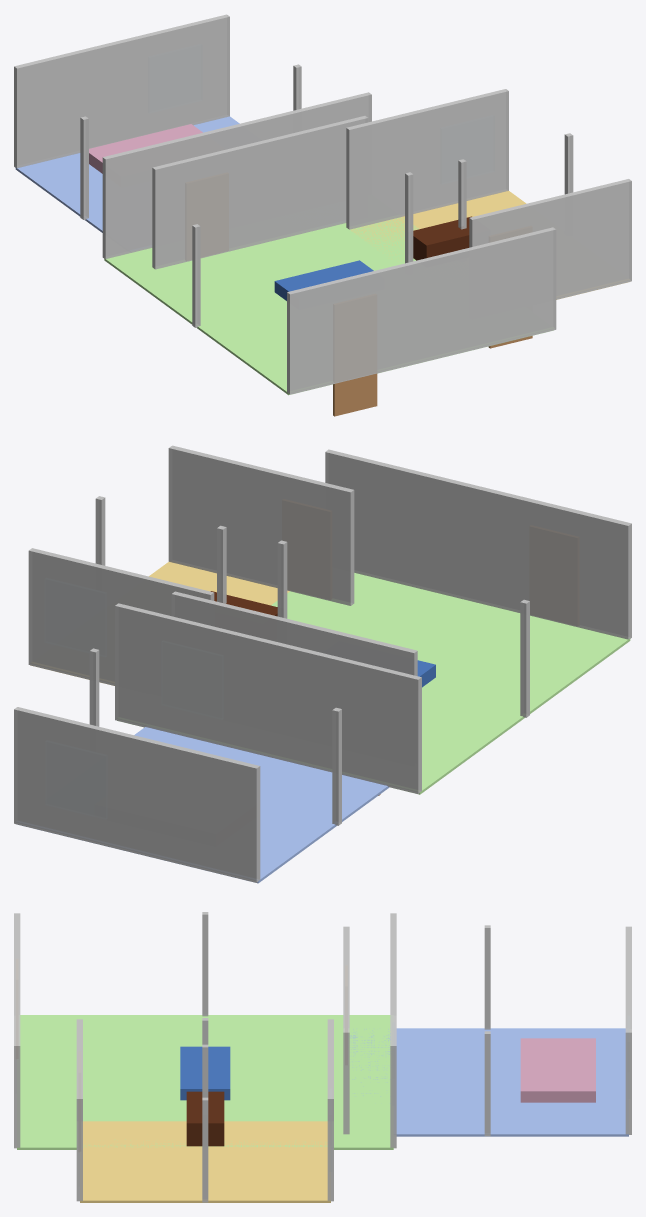
Rendered from colorful_floorplan_2854.obj.
3 views of the same model, one above another, from view 1: azimuth 30°, elevation 25°; view 2: azimuth 150°, elevation 25°; view 3: azimuth 270°, elevation 25° (orthographic). The views are drawn at different scales.
Parts seen in each view (by area): view 1: Living_Room_front_wall, Bedroom_back_wall, Bedroom_front_wall, Living_Room_floor, Kitchen_back_wall, Kitchen_front_wall, Living_Room_back_wall, Bedroom_floor, Kitchen_floor, Kitchen_table_counter, Living_Room_door_panel, Bedroom_bed_bed (+6 smaller); view 2: Living_Room_back_wall, Living_Room_front_wall, Bedroom_back_wall, Living_Room_floor, Kitchen_front_wall, Kitchen_back_wall, Bedroom_floor, Bedroom_front_wall, Kitchen_floor, Living_Room_left_wall, Bedroom_left_wall, Kitchen_left_wall (+3 smaller); view 3: Living_Room_floor, Bedroom_floor, Kitchen_floor, Bedroom_bed_bed, Living_Room_sofa_sofa, Kitchen_table_counter, Living_Room_front_wall, Living_Room_back_wall, Bedroom_front_wall, Bedroom_back_wall, Kitchen_front_wall, Kitchen_back_wall (+4 smaller).
Part boxes in pixels (box(x1,y1,x2,y2)): Living_Room_front_wall: box(287, 227, 556, 394); Bedroom_back_wall: box(14, 14, 229, 168); Bedroom_front_wall: box(152, 116, 368, 269); Living_Room_floor: box(104, 217, 553, 395); Kitchen_back_wall: box(346, 89, 508, 229); Kitchen_front_wall: box(469, 179, 631, 299); Living_Room_back_wall: box(102, 92, 371, 258); Bedroom_floor: box(15, 116, 239, 232); Kitchen_floor: box(351, 191, 627, 299); Kitchen_table_counter: box(413, 216, 471, 260); Living_Room_door_panel: box(333, 373, 377, 416); Bedroom_bed_bed: box(89, 124, 202, 173); Living_Room_back_wall: box(115, 603, 421, 793); Living_Room_front_wall: box(325, 449, 631, 639); Bedroom_back_wall: box(14, 707, 260, 882); Living_Room_floor: box(117, 572, 630, 794); Kitchen_front_wall: box(168, 445, 354, 605); Kitchen_back_wall: box(28, 548, 214, 685); Bedroom_floor: box(18, 727, 389, 883); Bedroom_front_wall: box(171, 591, 417, 675); Kitchen_floor: box(30, 561, 289, 685); Living_Room_left_wall: box(520, 599, 529, 717); Bedroom_left_wall: box(332, 707, 341, 825); Kitchen_left_wall: box(277, 540, 287, 618); Living_Room_floor: box(17, 1015, 393, 1149); Bedroom_floor: box(350, 1028, 628, 1136); Kitchen_floor: box(80, 1121, 330, 1202); Bedroom_bed_bed: box(520, 1038, 595, 1102); Living_Room_sofa_sofa: box(180, 1046, 230, 1100); Kitchen_table_counter: box(186, 1091, 224, 1146); Living_Room_front_wall: box(14, 913, 20, 1148); Living_Room_back_wall: box(390, 913, 396, 1148); Bedroom_front_wall: box(343, 926, 349, 1134); Bedroom_back_wall: box(625, 926, 631, 1134); Kitchen_front_wall: box(76, 1019, 82, 1201); Kitchen_back_wall: box(327, 1019, 333, 1201).
Bounding box in the file's own units: 7.1 × 2.4 × 9.85.
